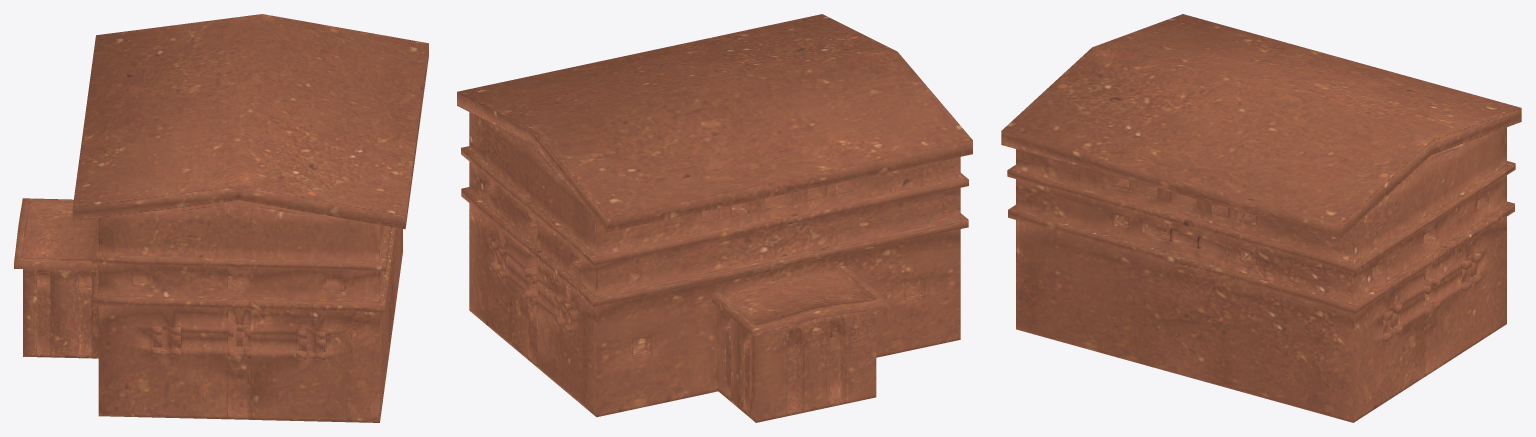
3 renders of one model, left to right at view 1: azimuth 30°, elevation 25°; view 2: azimuth 150°, elevation 25°; view 3: azimuth 270°, elevation 25°, orthographic.
Parts seen in each view (by area): view 1: 2; view 2: 2; view 3: 2.
Boxes of the visible parts, x1,y1,x2,y2 form: 2: (14, 14, 428, 422); 2: (457, 14, 972, 422); 2: (1001, 14, 1521, 422).
Bounding box in the file's own units: 0.1947 × 0.1037 × 0.203.
Materials: 1 (1 with a texture image).
